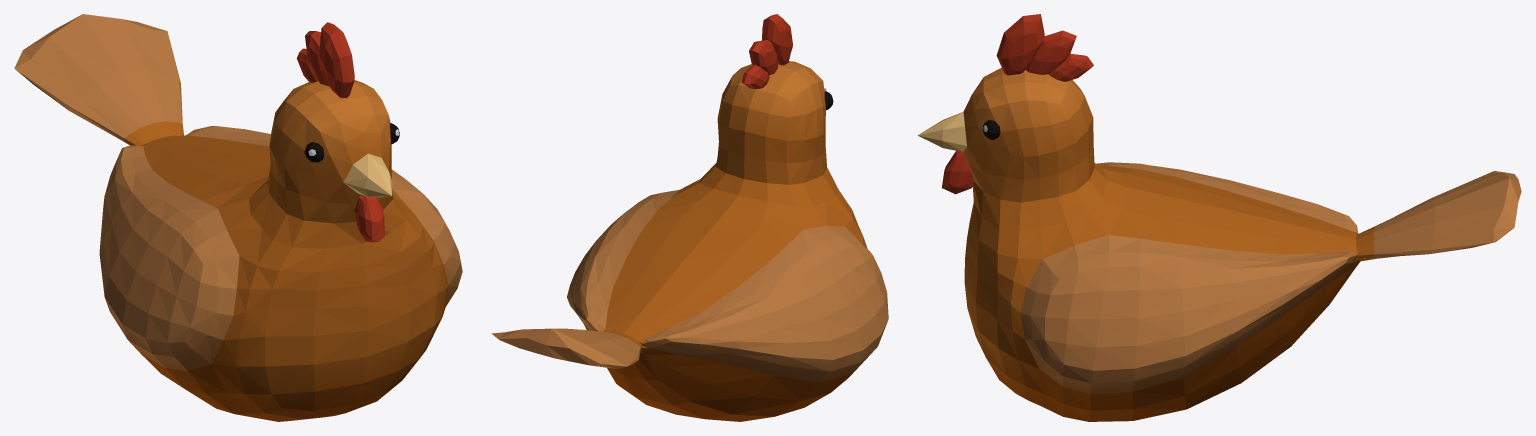
Rendered from Character_Default_Chicken.fbx.
3 renders of one model, left to right at view 1: azimuth 30°, elevation 25°; view 2: azimuth 150°, elevation 25°; view 3: azimuth 270°, elevation 25°, orthographic. The views are drawn at different scales.
Visible parts, largest first — view 1: Character_Chicken_Mesh; view 2: Character_Chicken_Mesh; view 3: Character_Chicken_Mesh.
Part boxes in pixels (left/top/right/bottom): Character_Chicken_Mesh: left=14, top=14, right=462, bottom=421; Character_Chicken_Mesh: left=491, top=14, right=888, bottom=421; Character_Chicken_Mesh: left=917, top=14, right=1521, bottom=421.
Size of the model in its own units: 7.07 by 8.75 by 12.39.
